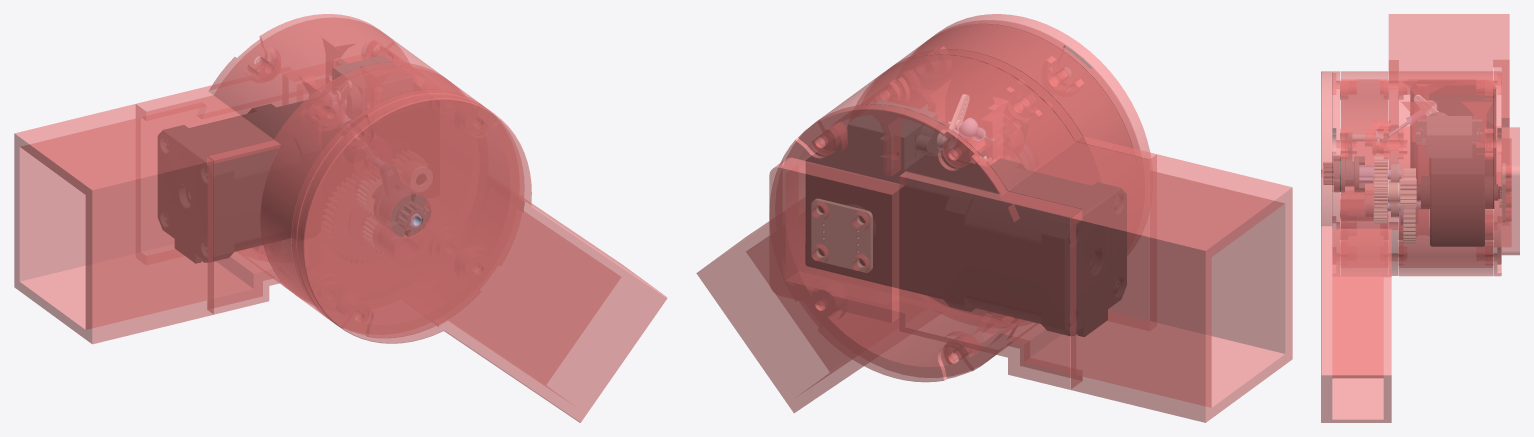
File: hankKneeTransparent.glb
The picture shows the model from 3 angles, left to right: view 1: azimuth 30°, elevation 25°; view 2: azimuth 150°, elevation 25°; view 3: azimuth 270°, elevation 25°; orthographic projection. The views are drawn at different scales.
Parts seen in each view (by area): view 1: Knee Hub-3, Knee Hub Cap-1, Rough Hub Motor Assembly-1, Dog Clutch 1-1; view 2: Knee Hub-3, Rough Hub Motor Assembly-1, Knee Hub Cap-1, microservoSG90-1, AS5600 Magnetic Encoder-1; view 3: Knee Hub-3, Knee Hub Cap-1, Rough Hub Motor Assembly-1, microservoSG90-1, spur gear_am-4, spur gear_am-3, Dog Clutch 2-1, spur gear_am-1, spur gear_am-5, Dog Clutch 4-1, Dog Clutch 1-1, Dog Clutch 3-1 (+1 smaller).
Boxes of the visible parts, x1,y1,x2,y2 form: Knee Hub-3: (14, 14, 524, 344); Knee Hub Cap-1: (297, 93, 667, 422); Rough Hub Motor Assembly-1: (158, 101, 304, 263); Dog Clutch 1-1: (390, 194, 427, 236); Knee Hub-3: (769, 20, 1292, 422); Rough Hub Motor Assembly-1: (805, 145, 1126, 336); Knee Hub Cap-1: (696, 14, 1150, 412); microservoSG90-1: (848, 100, 947, 171); AS5600 Magnetic Encoder-1: (811, 199, 872, 272); Knee Hub-3: (1332, 14, 1519, 276); Knee Hub Cap-1: (1321, 71, 1391, 422); Rough Hub Motor Assembly-1: (1410, 89, 1497, 246); microservoSG90-1: (1416, 112, 1481, 157); spur gear_am-4: (1388, 179, 1416, 205); spur gear_am-3: (1403, 168, 1415, 243); Dog Clutch 2-1: (1334, 156, 1364, 192); spur gear_am-1: (1374, 156, 1387, 191); spur gear_am-5: (1374, 192, 1387, 223); Dog Clutch 4-1: (1345, 133, 1381, 180); Dog Clutch 1-1: (1324, 161, 1341, 184); Dog Clutch 3-1: (1359, 165, 1401, 183).
Size of the model in its own units: 0.2327 by 0.151 by 0.097.
